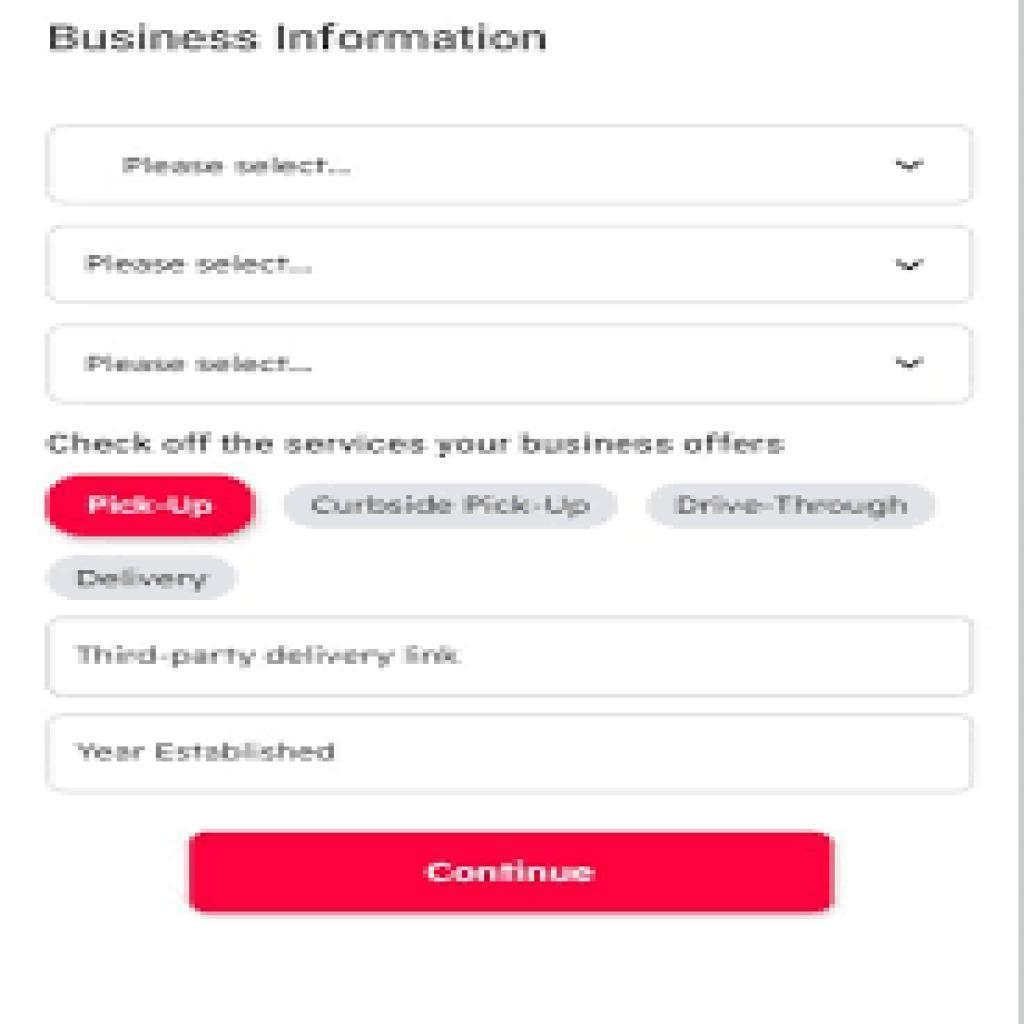button: (190, 833, 837, 915), (281, 478, 617, 528), (645, 482, 940, 534), (42, 473, 255, 535), (48, 555, 237, 605)
dropdown: (48, 125, 971, 204), (49, 325, 967, 404), (45, 227, 971, 303)
input: (48, 714, 971, 792), (52, 620, 969, 695)
